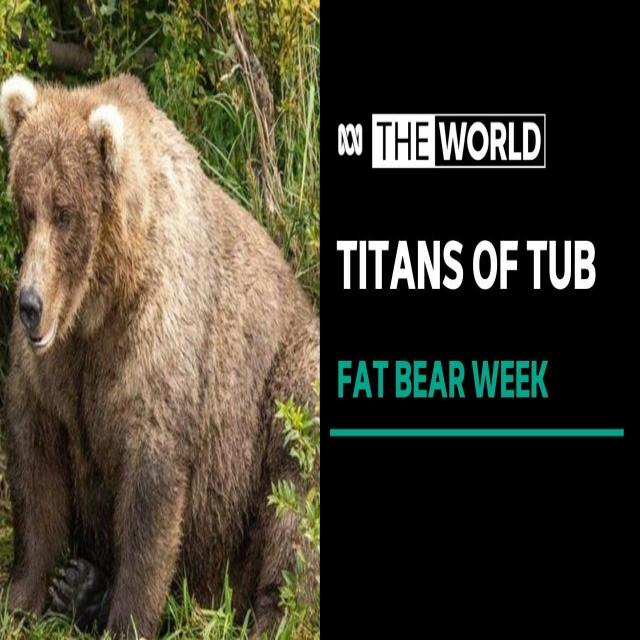Bear: (0, 75, 318, 640)
